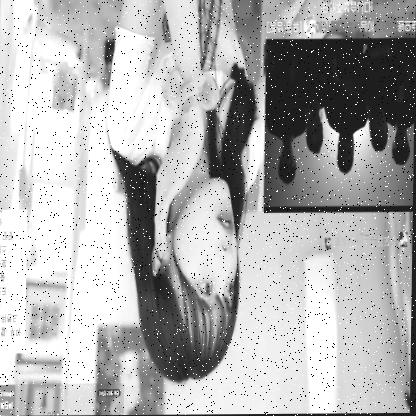donation: (263, 0, 416, 251)
streamer: (106, 0, 362, 385)
